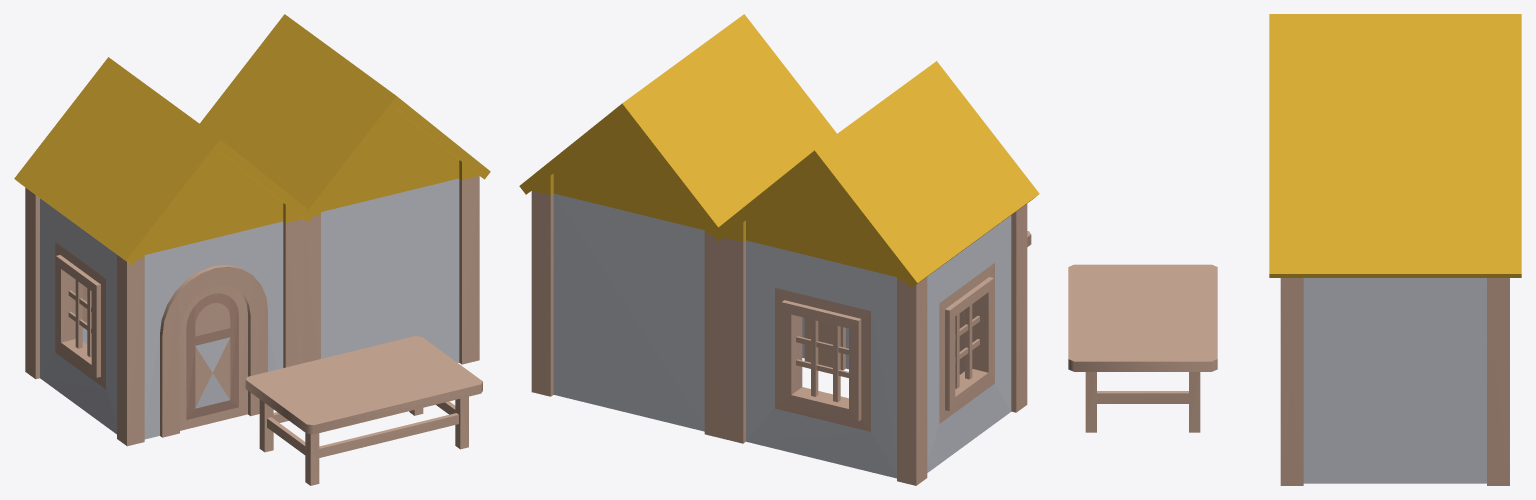
The model's file is barracks_l1.glb.
The picture shows the model from 3 angles, left to right: view 1: azimuth 30°, elevation 25°; view 2: azimuth 150°, elevation 25°; view 3: azimuth 270°, elevation 25°; orthographic projection. The views are drawn at different scales.
Visible parts, largest first — view 1: barracks_l1; view 2: barracks_l1; view 3: barracks_l1.
Boxes of the visible parts, bbox=[...] form: barracks_l1: bbox=[14, 14, 490, 485]; barracks_l1: bbox=[519, 14, 1039, 485]; barracks_l1: bbox=[1068, 14, 1521, 485].
Size of the model in its own units: 3.93 by 2.98 by 3.75.
